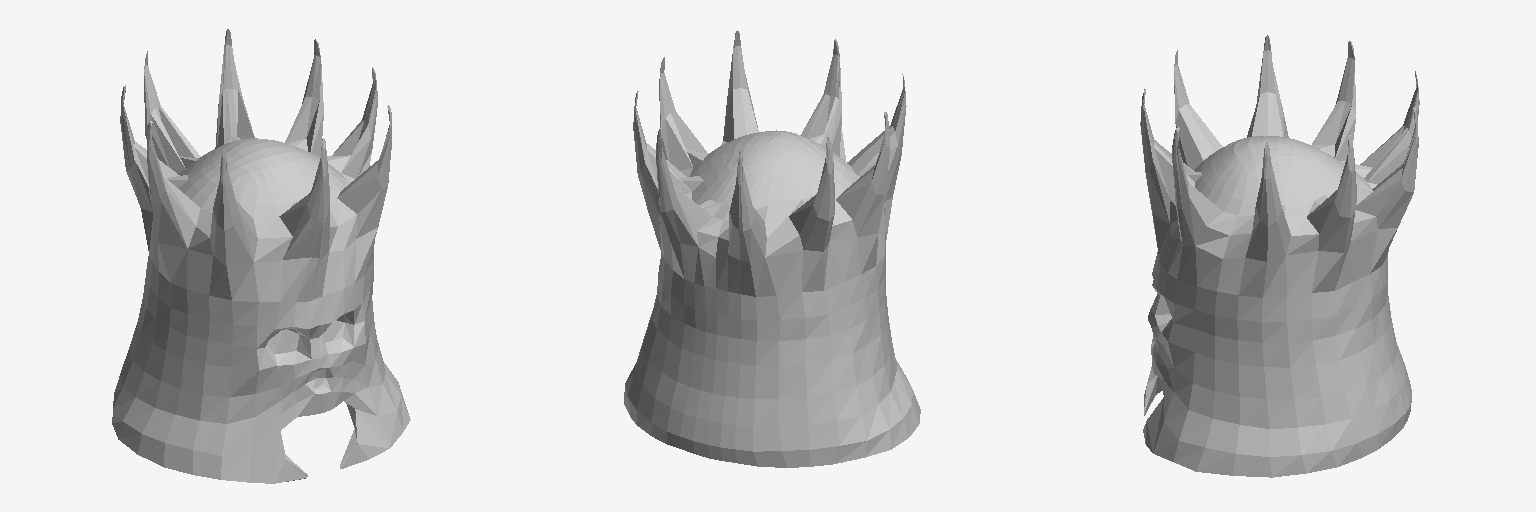
Rendered from helmet.obj.
3 views of the same model, side by side, from view 1: azimuth 30°, elevation 25°; view 2: azimuth 150°, elevation 25°; view 3: azimuth 270°, elevation 25° (orthographic).
Parts seen in each view (by area): view 1: helmet; view 2: helmet; view 3: helmet.
Part boxes in pixels (bbox=[...]): helmet: bbox=[112, 29, 410, 483]; helmet: bbox=[624, 31, 920, 467]; helmet: bbox=[1140, 35, 1419, 477].
Bounding box in the file's own units: 3.42 × 4.23 × 3.17.